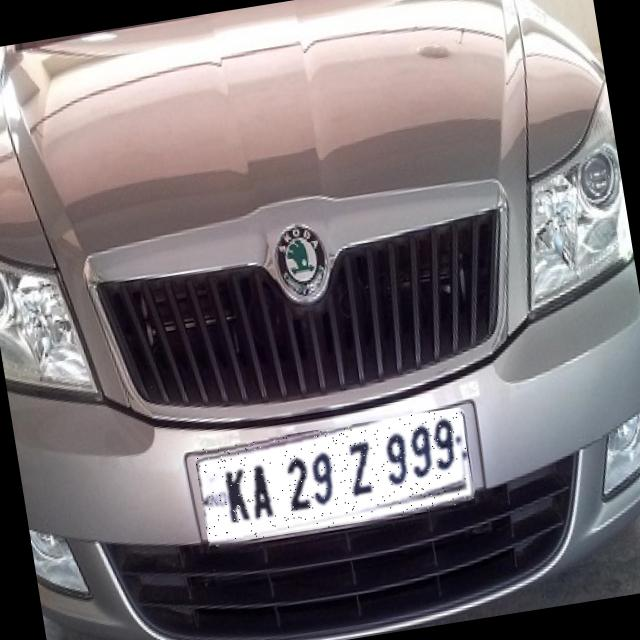Plate: (195, 408, 477, 547)
